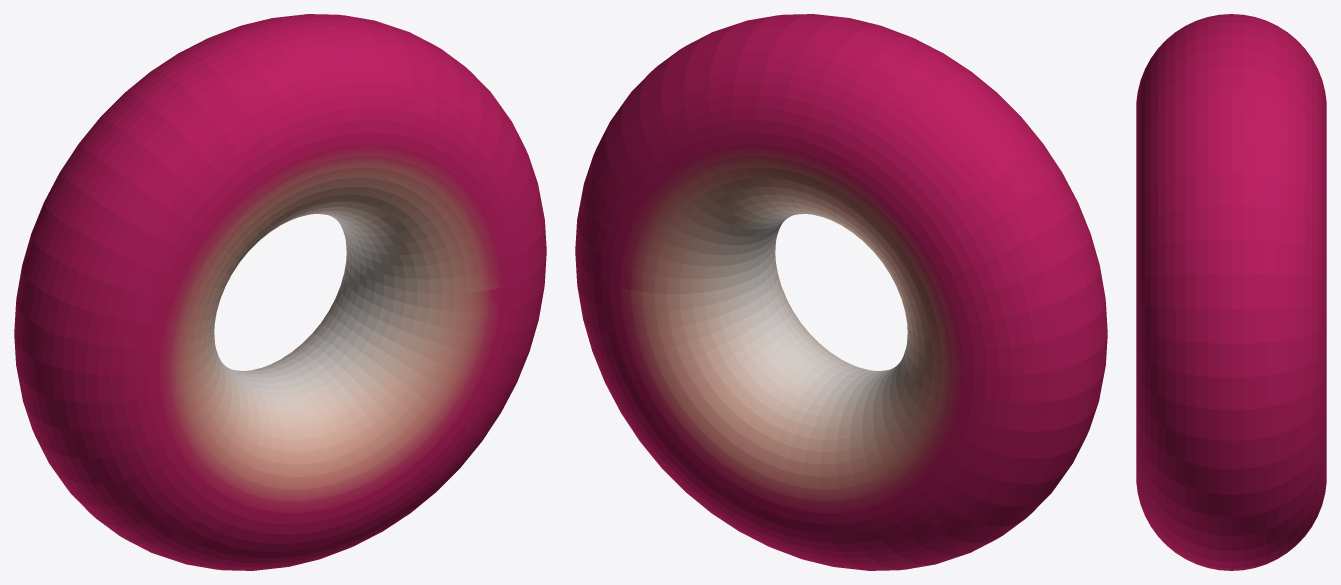
3 renders of one model, left to right at view 1: azimuth 30°, elevation 25°; view 2: azimuth 150°, elevation 25°; view 3: azimuth 270°, elevation 25°, orthographic. The views are drawn at different scales.
Parts seen in each view (by area): view 1: world; view 2: world; view 3: world.
Boxes of the visible parts, x1,y1,x2,y2 form: world: (14,14,546,570); world: (575,14,1107,570); world: (1136,14,1326,570).
Size of the model in its own units: 28.4 by 28.34 by 9.71.
